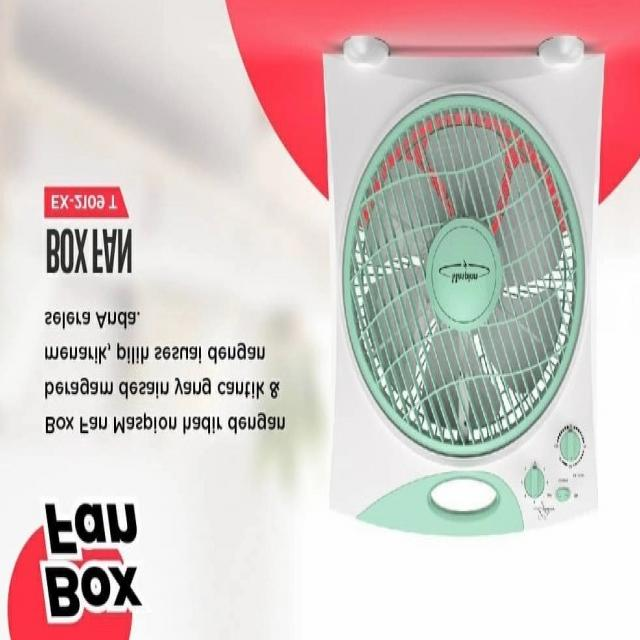fan: (324, 35, 600, 539)
